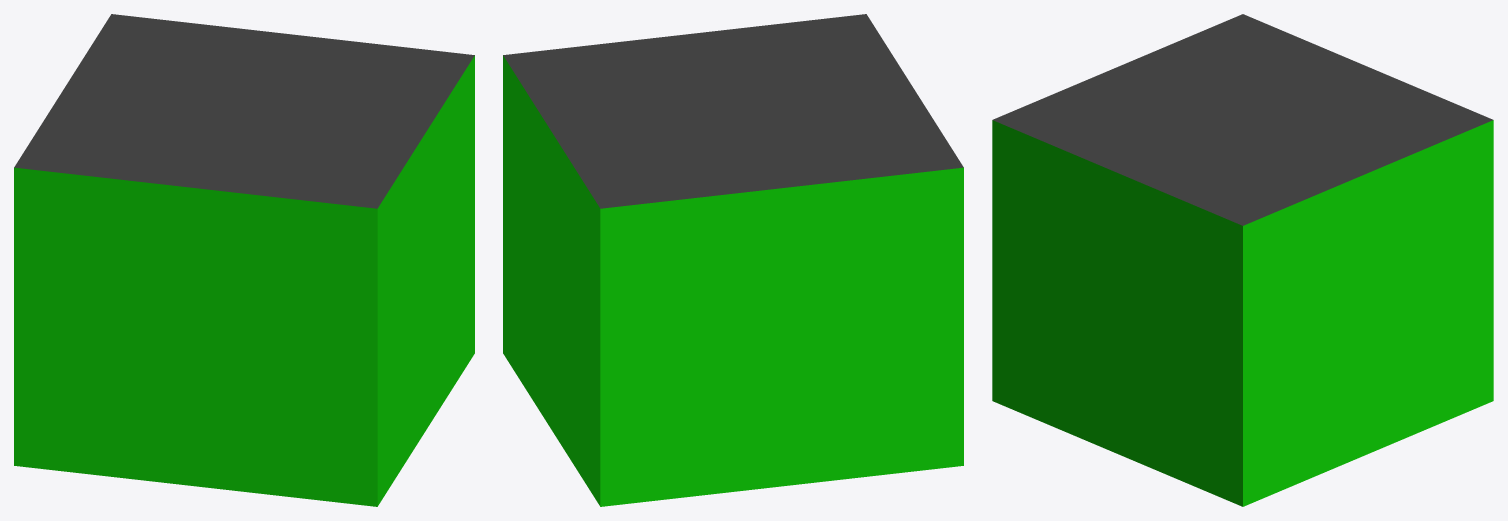
Rendered from Fin_interieur.fbx.
3 renders of one model, left to right at view 1: azimuth 30°, elevation 25°; view 2: azimuth 150°, elevation 25°; view 3: azimuth 270°, elevation 25°, orthographic. The views are drawn at different scales.
Parts seen in each view (by area): view 1: Fin_interieur; view 2: Fin_interieur; view 3: Fin_interieur.
Boxes of the visible parts, bbox=[...] form: Fin_interieur: bbox=[14, 14, 474, 506]; Fin_interieur: bbox=[503, 14, 963, 506]; Fin_interieur: bbox=[992, 14, 1493, 506].
Bounding box in the file's own units: 15 × 9.27 × 15.
